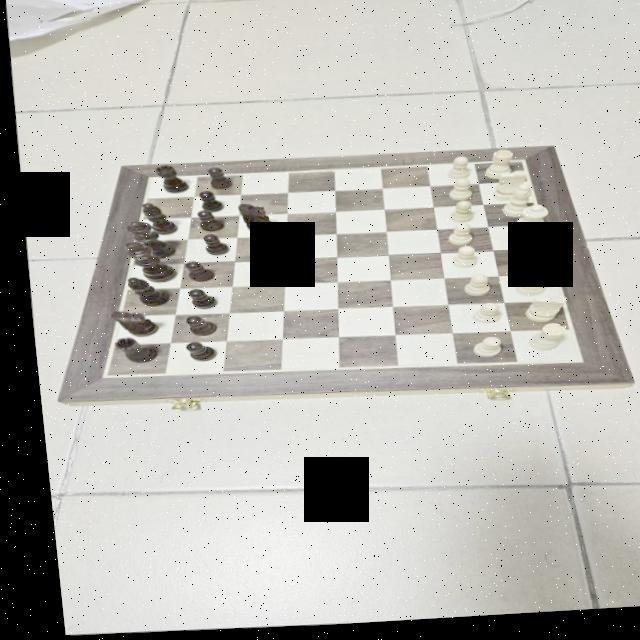chess-table-corners: (560, 362, 582, 372), (89, 372, 107, 381), (511, 162, 526, 170), (137, 176, 153, 183)
